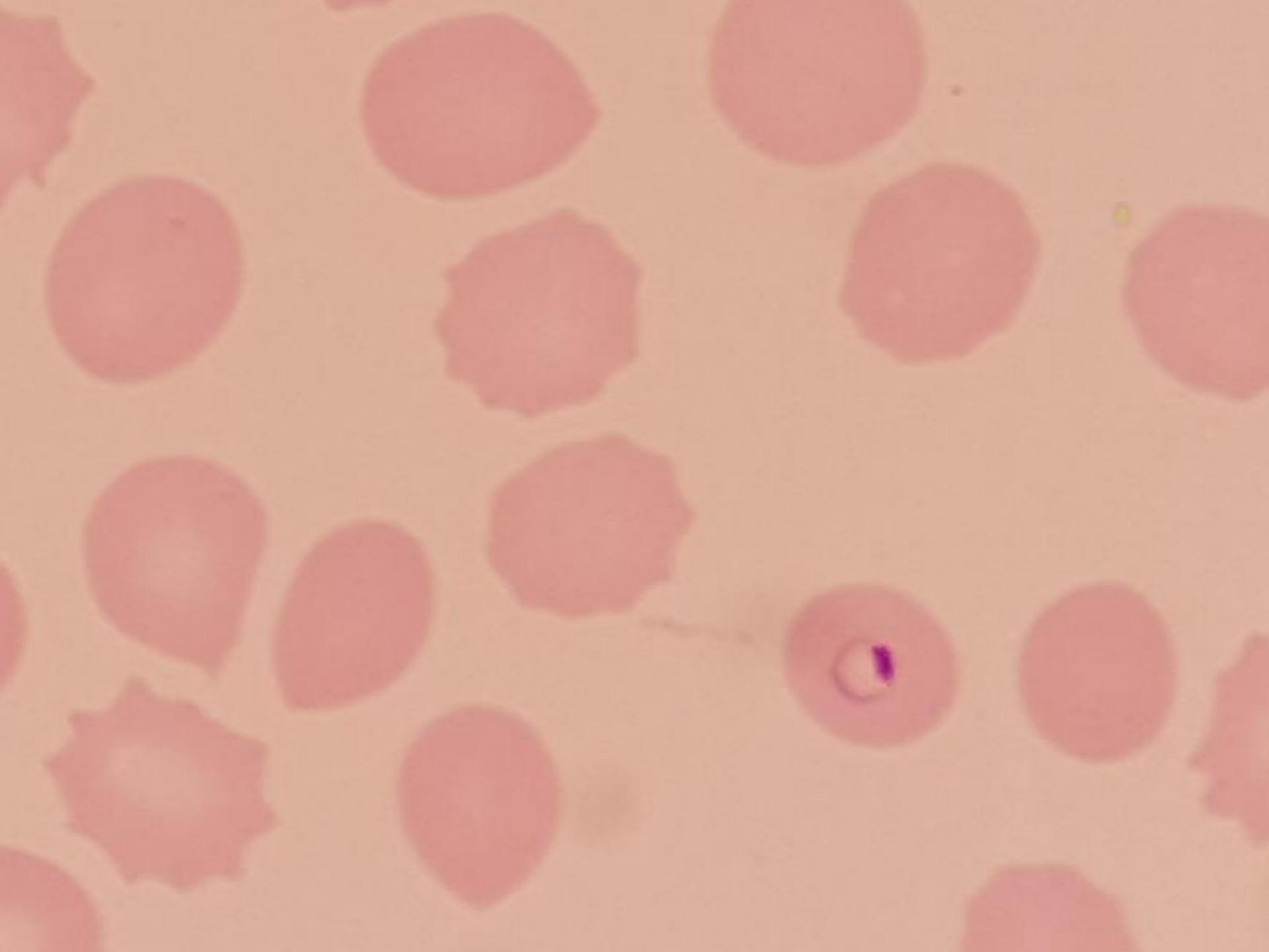Infected: (785, 582, 956, 747)
Uninfected: (46, 687, 286, 891), (435, 213, 647, 421), (48, 172, 243, 384), (364, 22, 596, 200), (844, 162, 1041, 364), (84, 455, 269, 670), (490, 428, 691, 619), (712, 0, 923, 166), (400, 707, 556, 906), (278, 522, 432, 709), (1016, 582, 1173, 763), (1122, 212, 1269, 392)
